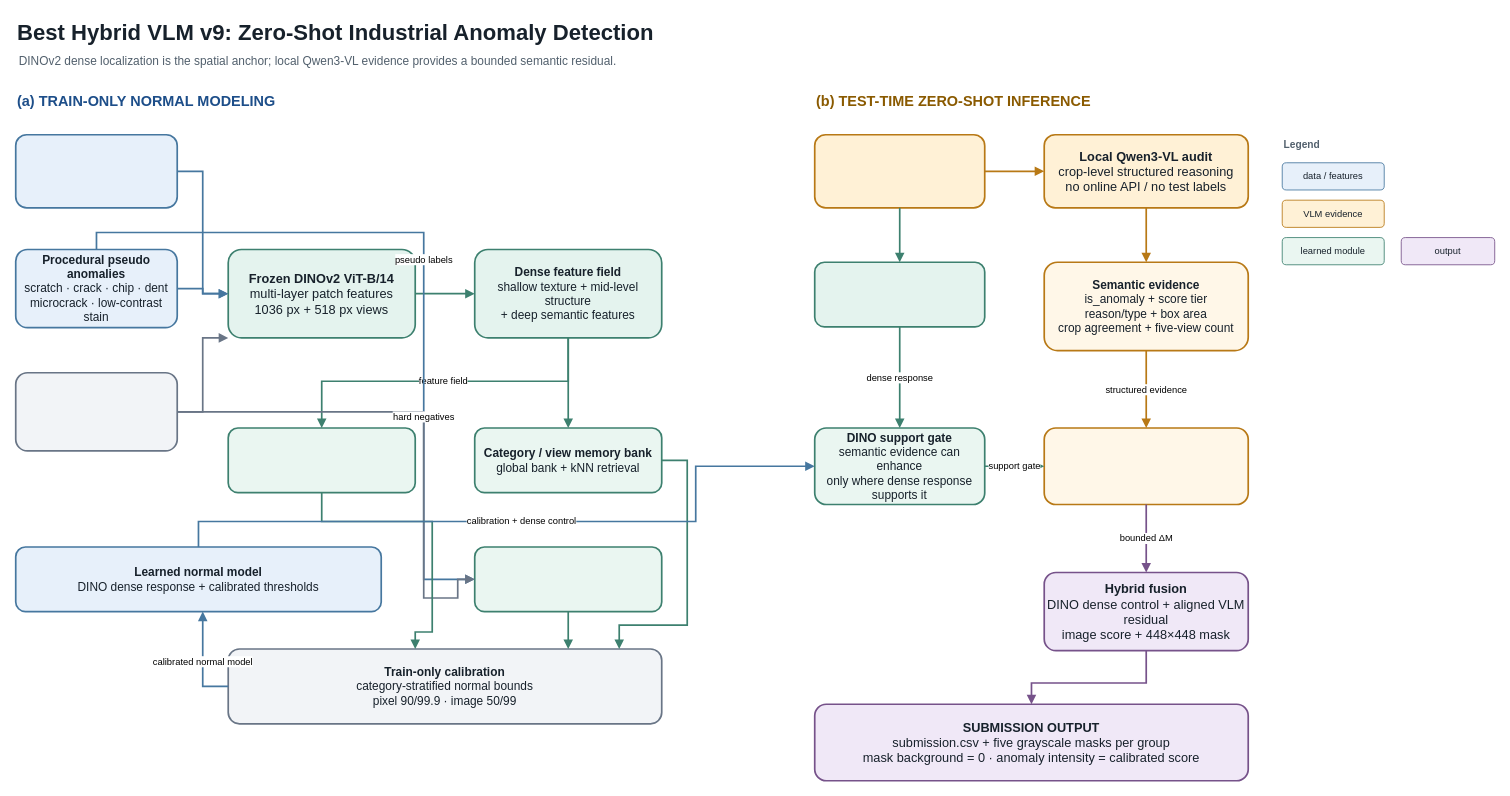
This 1510x796 diagram has some shape labels left out. Here are the shapes that lost their labels. From the top down, the box of each, then its label:
(14, 133, 178, 208): Official Train normal images · five fixed views
(813, 133, 985, 208): Test A / B input five-view product images unseen-category capable
(813, 261, 985, 327): DINO dense response multi-scale patch anomaly field
(14, 371, 178, 451): Hard-normal negatives background · contour · highlight strong/repetitive texture
(227, 427, 416, 493): Reconstruction branch normal-manifold distance
(1043, 427, 1249, 505): Bounded VLM residual local evidence → ΔM ≤ 0.12 box is not rasterized as mask
(473, 546, 662, 612): Pseudo-anomaly pixel head BCE + Tversky + hard negatives
